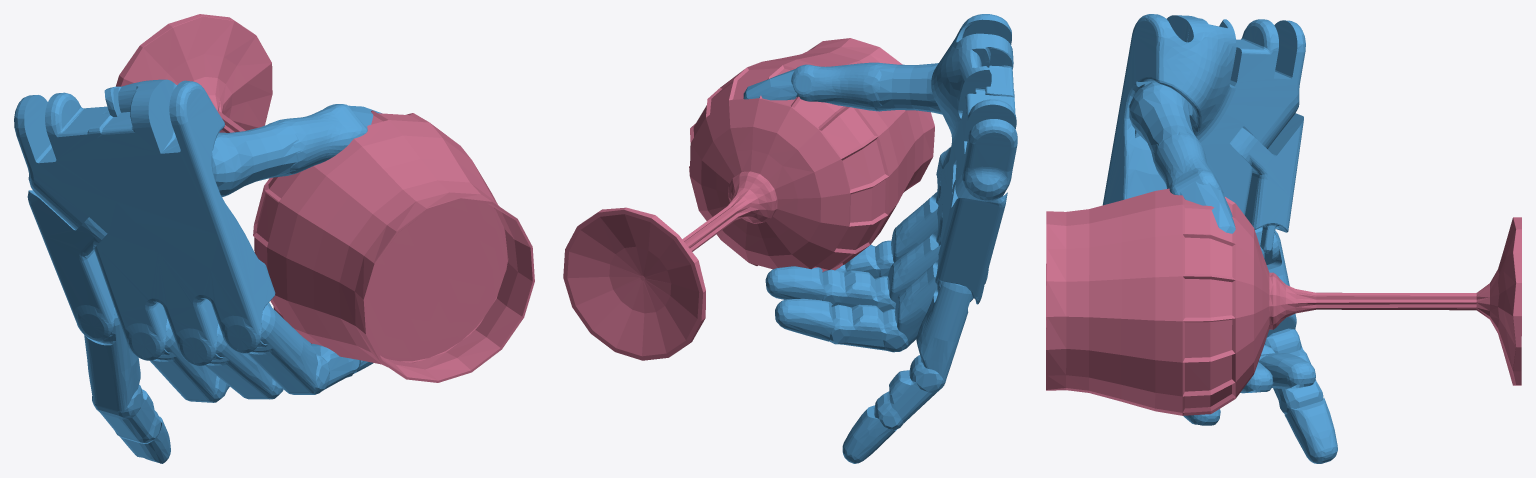
The picture shows the model from 3 angles, left to right: view 1: azimuth 30°, elevation 25°; view 2: azimuth 150°, elevation 25°; view 3: azimuth 270°, elevation 25°; orthographic projection. The views are drawn at different scales.
Parts seen in each view (by area): view 1: 0; view 2: 0; view 3: 0.
Part boxes in pixels (bbox=[...]): 0: bbox=[14, 14, 534, 463]; 0: bbox=[563, 14, 1017, 463]; 0: bbox=[1046, 14, 1521, 463].
Size of the model in its own units: 0.1863 by 0.1978 by 0.2031.
